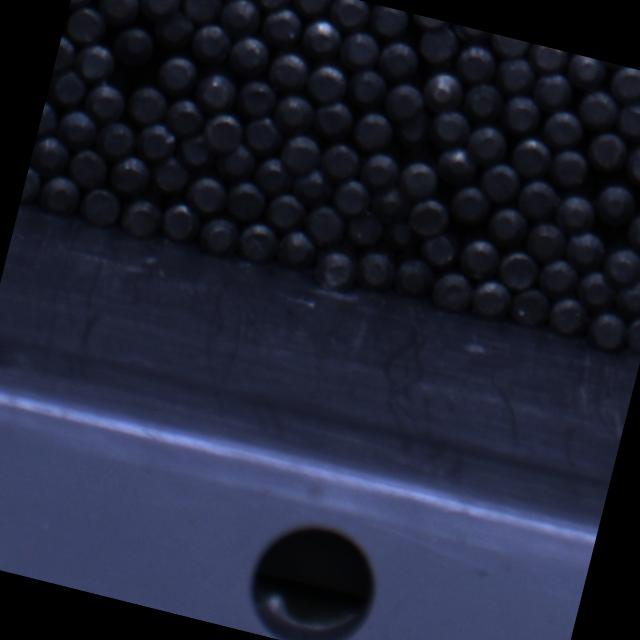tool: (514, 174, 564, 223), (420, 67, 469, 116), (590, 180, 640, 228), (309, 243, 359, 291), (476, 158, 524, 206), (456, 233, 504, 281), (106, 150, 154, 198), (510, 133, 558, 181), (574, 86, 622, 134), (428, 266, 476, 314), (463, 121, 511, 169), (551, 190, 599, 238), (278, 130, 326, 178), (226, 31, 274, 79), (154, 49, 202, 97), (544, 292, 592, 340), (193, 69, 241, 117), (563, 226, 611, 274), (376, 38, 424, 86), (484, 202, 532, 250), (434, 142, 483, 189), (584, 128, 632, 175), (522, 218, 570, 265), (304, 60, 352, 107), (454, 40, 502, 87), (265, 47, 313, 94), (272, 229, 320, 276), (415, 19, 463, 66), (125, 81, 172, 128), (302, 202, 349, 249), (506, 283, 553, 330), (349, 108, 396, 155), (391, 254, 438, 301), (533, 255, 581, 301), (494, 245, 542, 291), (404, 194, 452, 240), (222, 176, 270, 222), (76, 183, 124, 229), (318, 139, 366, 185), (110, 24, 158, 70), (132, 118, 180, 164), (271, 90, 319, 136), (310, 98, 358, 144), (539, 106, 587, 152), (446, 182, 494, 228), (211, 138, 259, 184), (366, 180, 414, 226), (201, 108, 248, 154), (336, 27, 382, 74), (37, 172, 84, 218), (91, 118, 138, 164), (234, 218, 281, 264), (163, 93, 210, 139), (189, 20, 236, 66), (118, 194, 165, 240), (548, 144, 594, 191), (429, 104, 476, 150), (62, 3, 110, 48), (298, 15, 346, 60), (64, 144, 110, 190), (468, 275, 514, 321), (156, 199, 202, 245), (396, 157, 442, 203), (357, 149, 403, 195), (236, 74, 282, 120), (346, 66, 392, 112), (352, 248, 398, 294), (382, 80, 428, 126), (260, 4, 307, 49), (184, 171, 231, 216), (531, 66, 578, 111), (52, 107, 98, 152), (73, 39, 119, 84), (196, 212, 242, 257), (252, 153, 298, 198), (494, 54, 540, 99), (152, 7, 198, 52), (81, 79, 128, 123), (240, 114, 287, 158), (148, 153, 193, 198), (263, 188, 309, 232), (574, 266, 618, 312), (462, 80, 508, 124), (290, 167, 337, 210), (584, 307, 629, 351), (500, 92, 545, 136), (30, 133, 74, 177), (174, 128, 218, 172), (329, 175, 374, 218), (342, 206, 387, 249), (564, 53, 612, 93), (218, 0, 265, 39), (48, 65, 90, 108), (599, 243, 640, 287), (419, 229, 462, 269), (328, 0, 373, 33), (366, 4, 409, 38), (610, 273, 640, 320), (526, 43, 570, 75), (95, 0, 143, 29), (607, 64, 640, 106), (180, 0, 227, 25), (52, 34, 80, 75), (614, 99, 640, 143), (488, 33, 530, 60), (36, 98, 62, 139), (137, 0, 185, 22), (20, 164, 44, 206), (450, 24, 492, 46), (406, 12, 450, 32), (621, 142, 640, 188), (288, 0, 332, 19), (622, 311, 640, 355), (623, 209, 640, 253), (250, 0, 294, 12), (68, 0, 98, 11)
